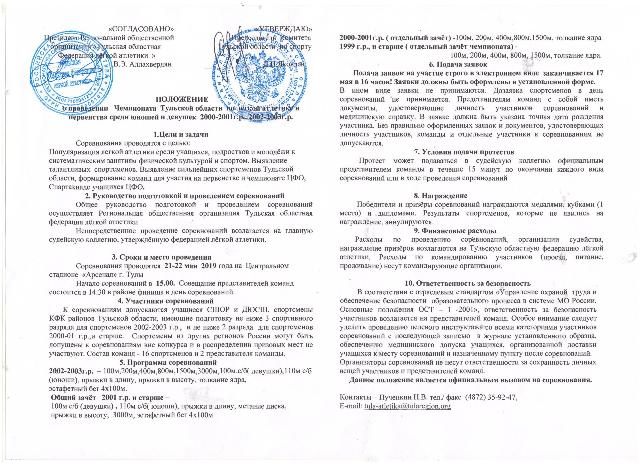stamp: (212, 27, 308, 121), (30, 30, 114, 116)
